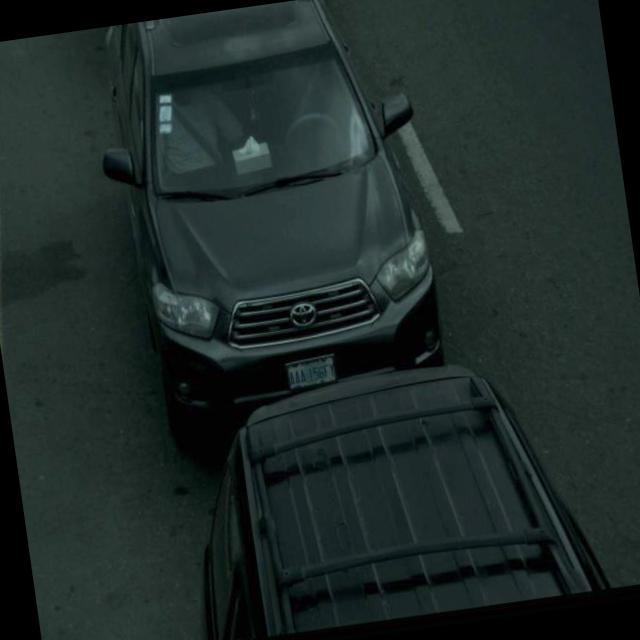person_with_seatbelt: (256, 43, 366, 173)
